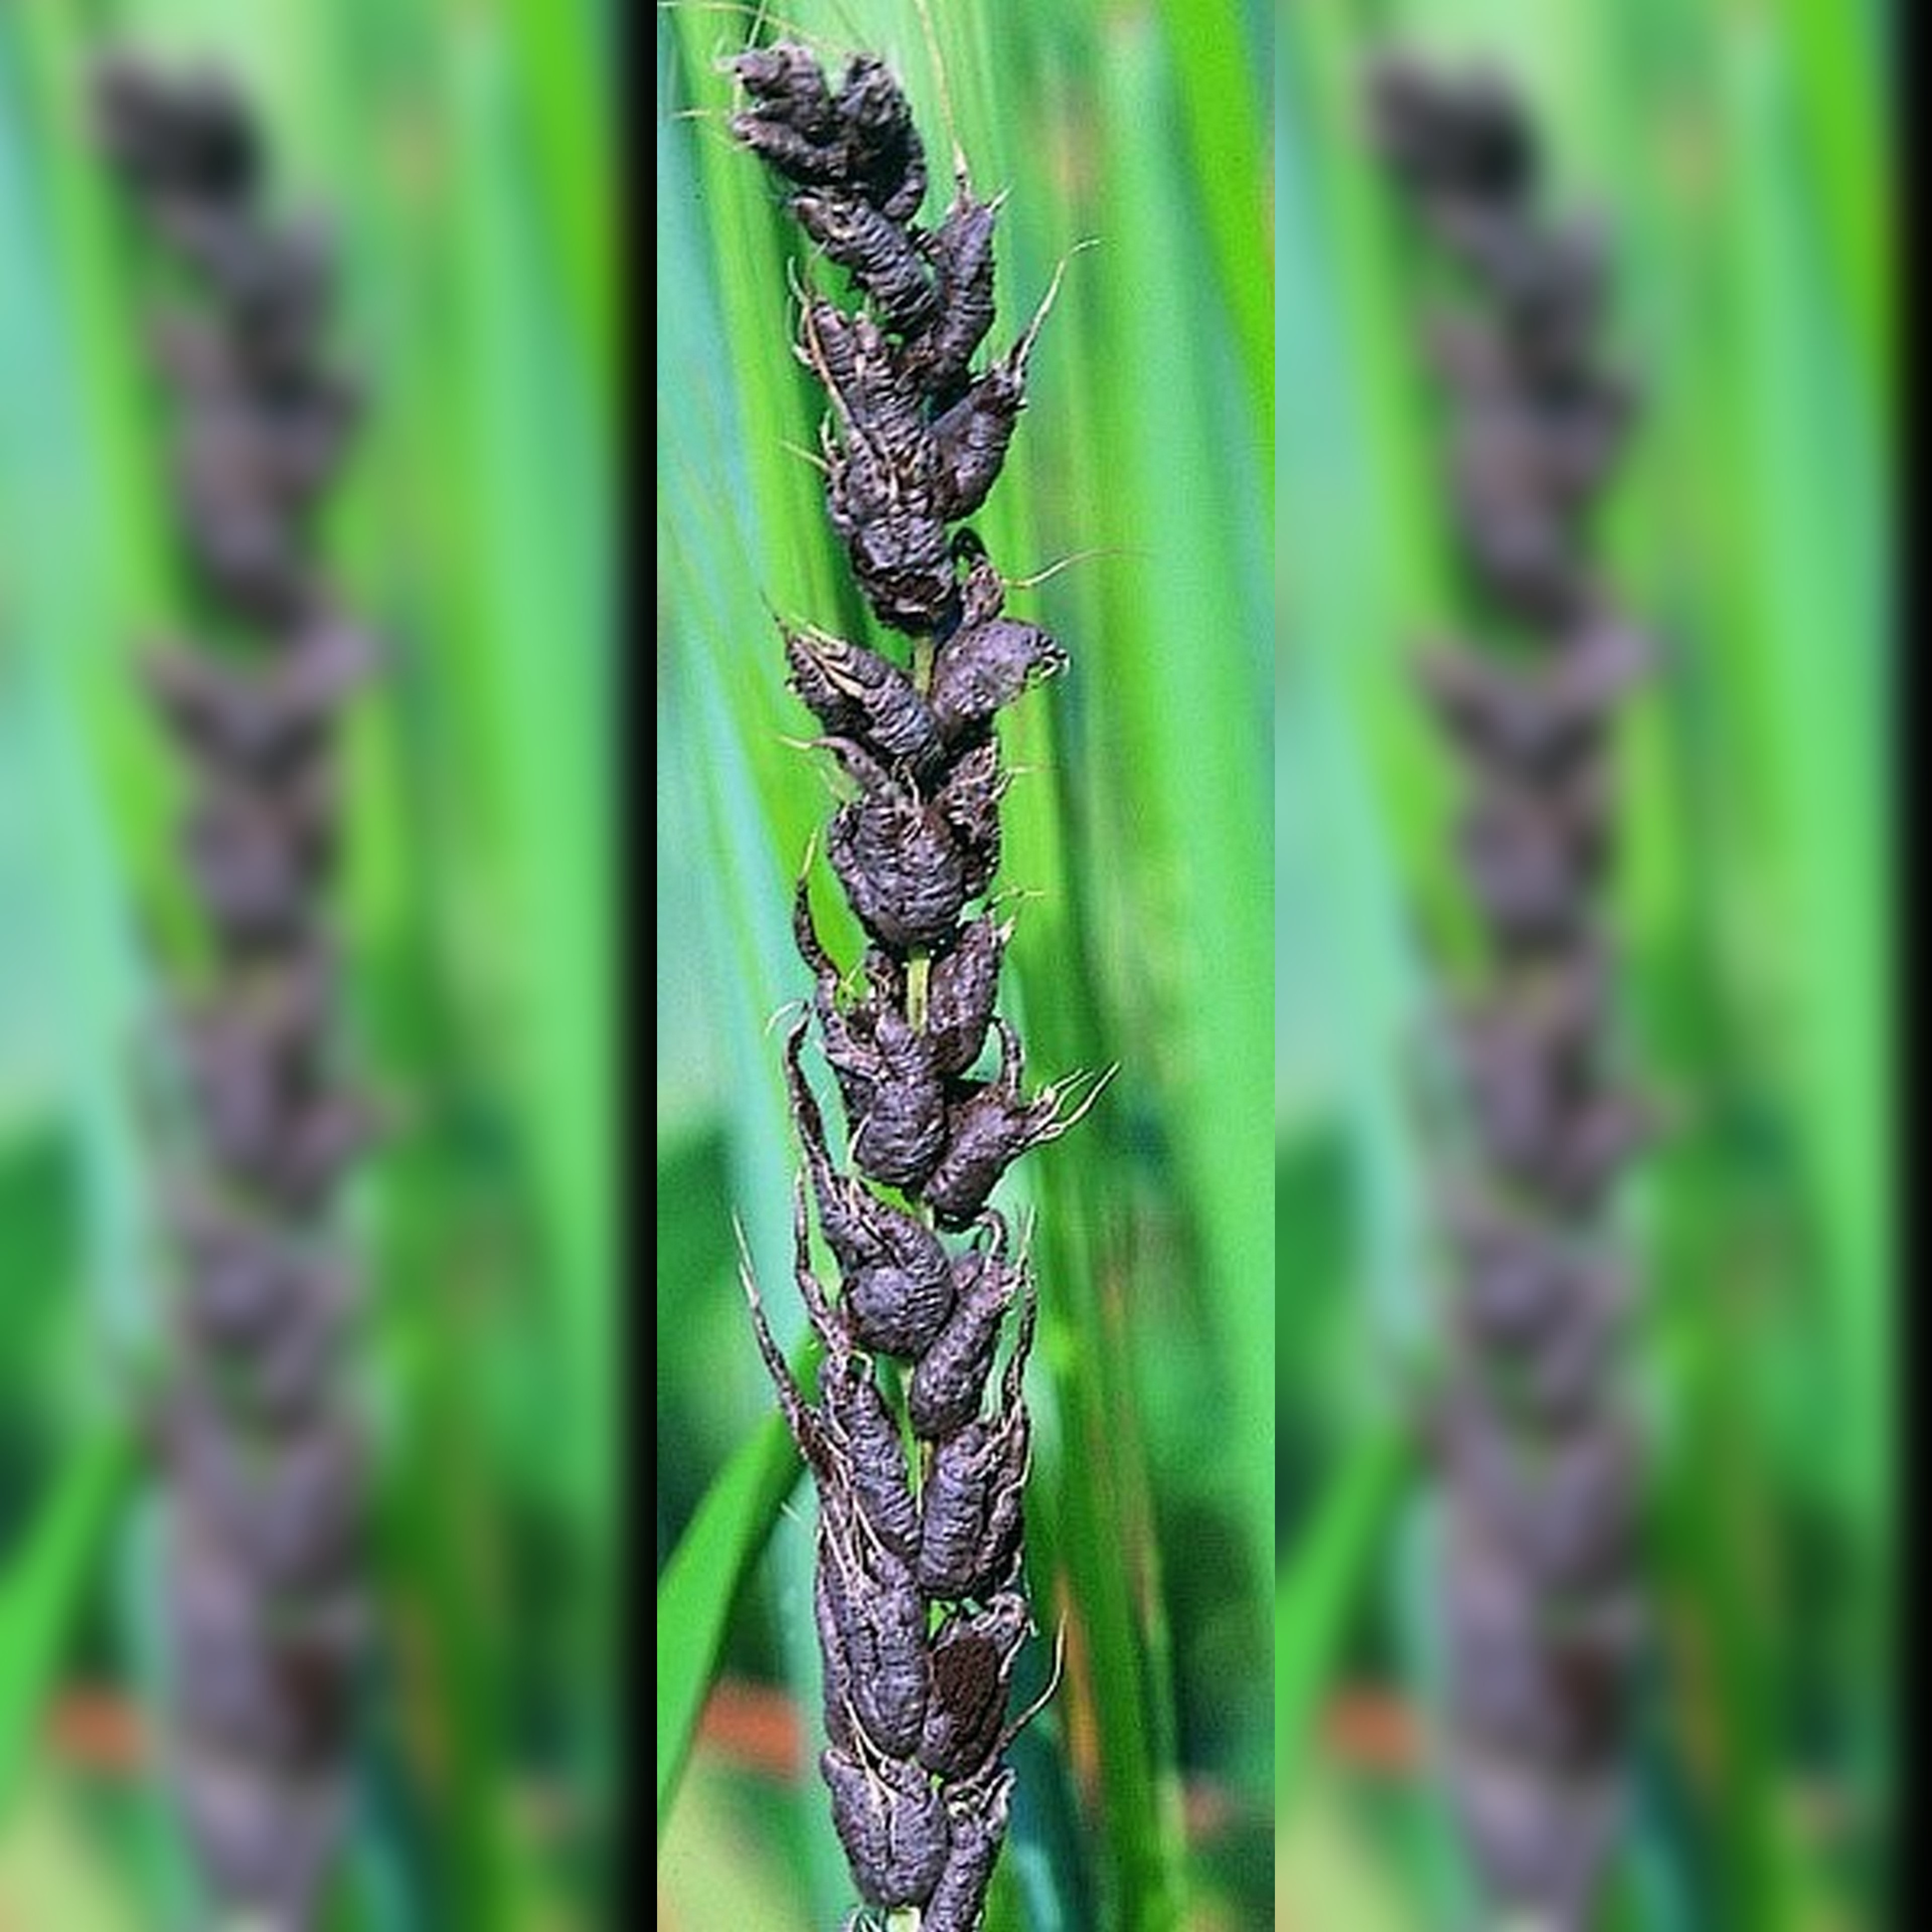Wheat Loose Smut: (715, 41, 1086, 1907)
